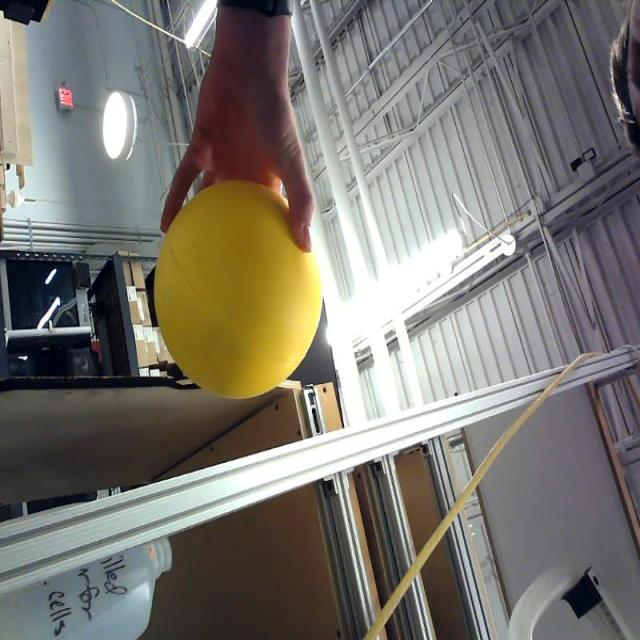Fuel: (154, 178, 322, 402)
